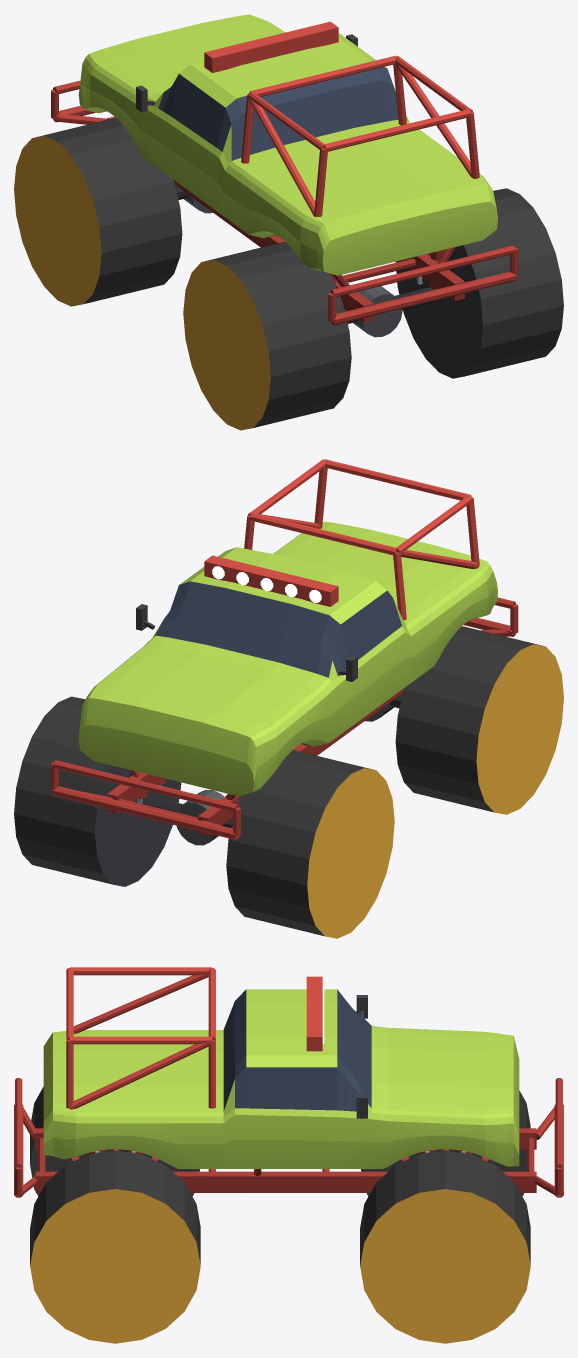
The model's file is swamp.glb.
3 views of the same model, one above another, from view 1: azimuth 30°, elevation 25°; view 2: azimuth 150°, elevation 25°; view 3: azimuth 270°, elevation 25° (orthographic). The views are drawn at different scales.
Parts seen in each view (by area): view 1: Body, Wheel_RL, Wheel_FL, Wheel_RR, Frame, LightBar, Axle_R; view 2: Body, Wheel_RL, Wheel_FL, Wheel_FR, Frame, LightBar, Axle_F; view 3: Body, Wheel_FR, Wheel_RR, Frame, LightBar, Wheel_RL, Wheel_FL.
Part boxes in pixels (x1=…): Body: x1=78, y1=14, x2=497, y2=275; Wheel_RL: x1=183, y1=242, x2=351, y2=430; Wheel_FL: x1=14, y1=118, x2=182, y2=306; Wheel_RR: x1=395, y1=188, x2=563, y2=378; Frame: x1=51, y1=55, x2=518, y2=325; LightBar: x1=204, y1=21, x2=338, y2=72; Axle_R: x1=330, y1=249, x2=444, y2=337; Body: x1=78, y1=521, x2=497, y2=796; Wheel_RL: x1=395, y1=626, x2=563, y2=814; Wheel_FL: x1=226, y1=750, x2=394, y2=938; Wheel_FR: x1=14, y1=696, x2=181, y2=886; Frame: x1=51, y1=459, x2=518, y2=839; LightBar: x1=204, y1=555, x2=338, y2=606; Axle_F: x1=131, y1=771, x2=232, y2=845; Body: x1=43, y1=989, x2=519, y2=1168; Wheel_FR: x1=360, y1=1150, x2=530, y2=1343; Wheel_RR: x1=30, y1=1150, x2=200, y2=1343; Frame: x1=14, y1=967, x2=563, y2=1197; LightBar: x1=306, y1=976, x2=324, y2=1051; Wheel_RL: x1=30, y1=1087, x2=199, y2=1196; Wheel_FL: x1=361, y1=1090, x2=530, y2=1196.
Size of the model in its own units: 2.9 by 2.63 by 4.83.
